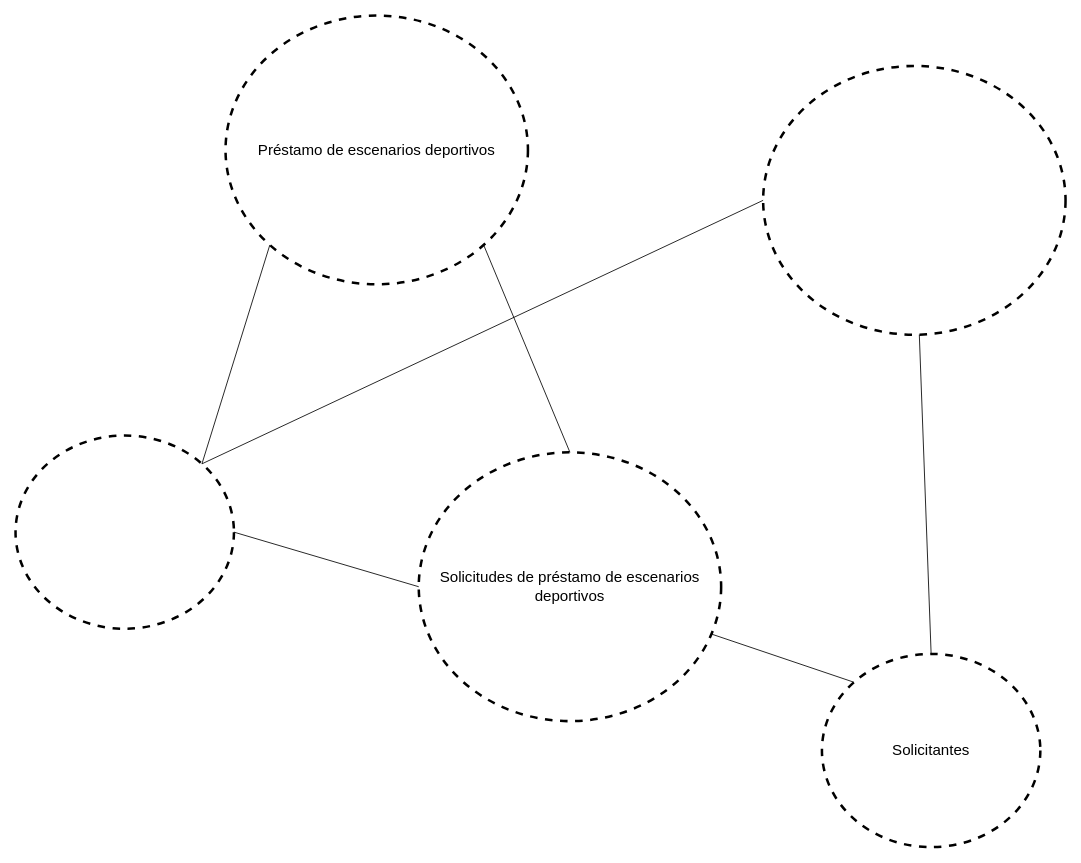
Image size: 1081x863. Some labels were removed from this diagram. The shapes that lost their labels are listed below. From the top down, each one's box as (x1, y1, x2, y2) in pixels, then its label:
(761, 64, 1066, 336): Calendario de prestamos activos
(14, 434, 235, 630): Profesional de la línea de deportes
